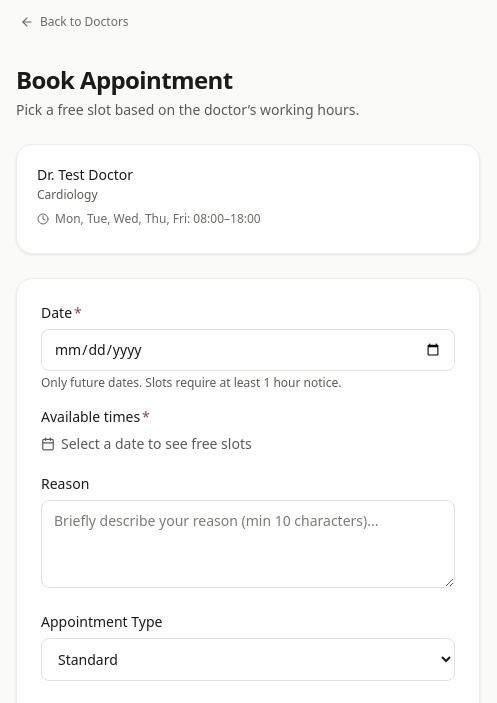
BookAppointmentPage › shows empty state when no free slots
Expected: the text "Dr. Test Doctor" is shown, [37,165,133,184]
Step 1. Type "2099-06-20" into the date field with id "appointmentDate" → coordinates (248, 350), box [41,329,455,371]
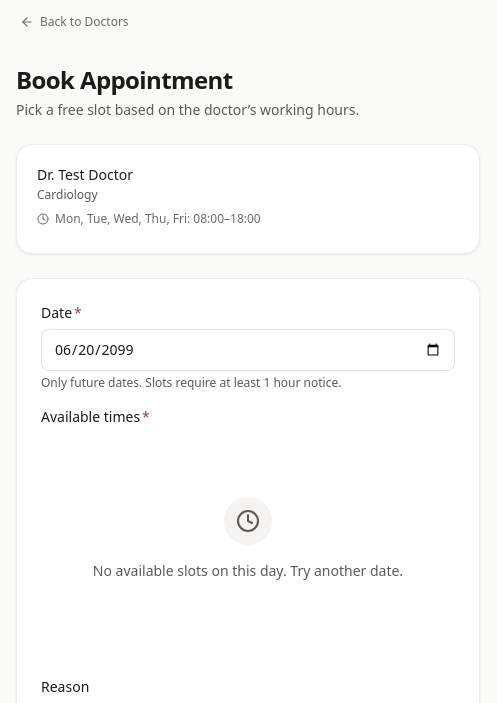
Expected: the text "No available slots on this day. Try another date." is shown, [93,561,403,581]
